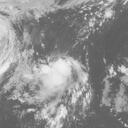cyclone: (32, 57, 89, 109)
